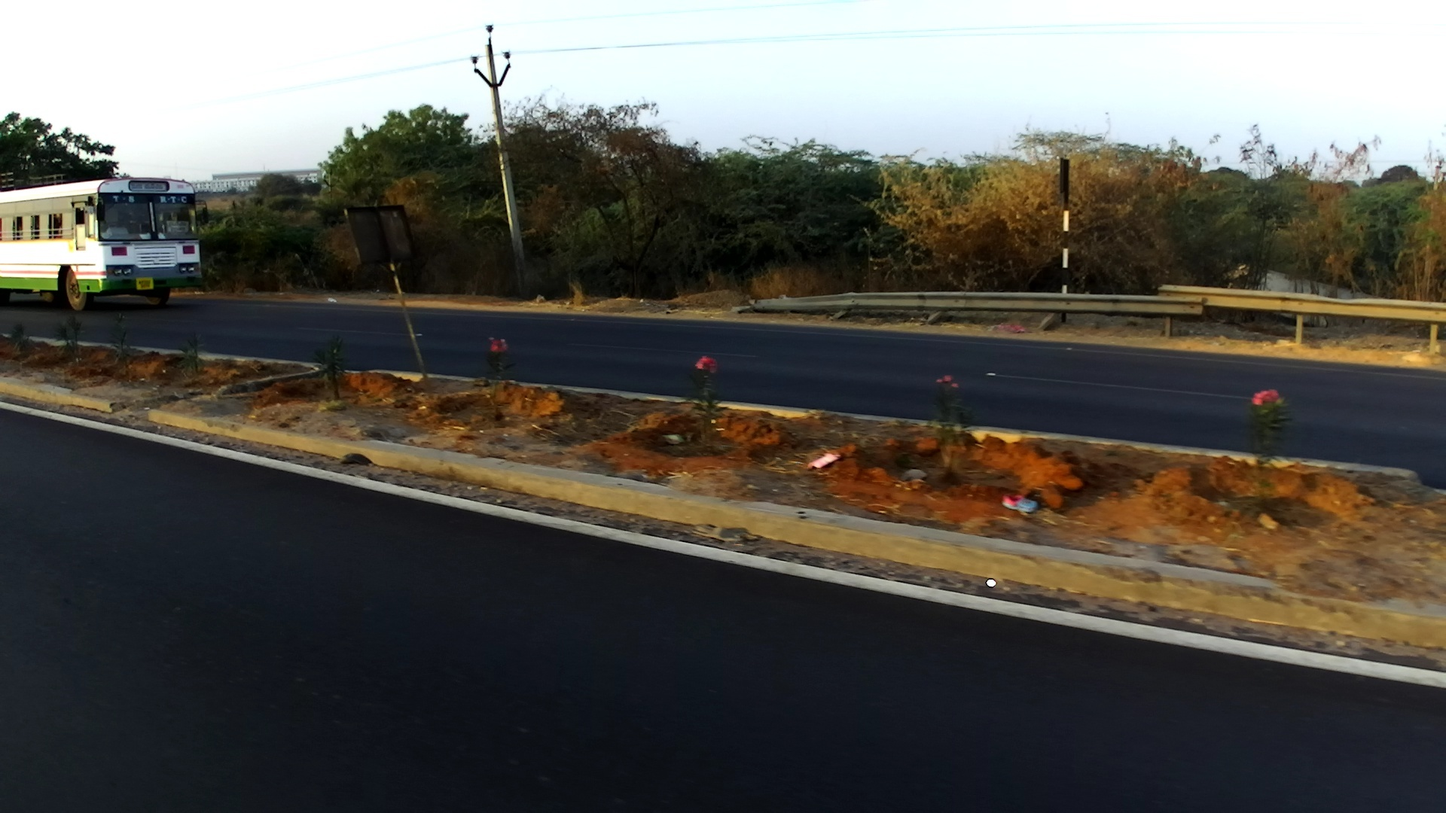bus: (1, 169, 203, 311)
